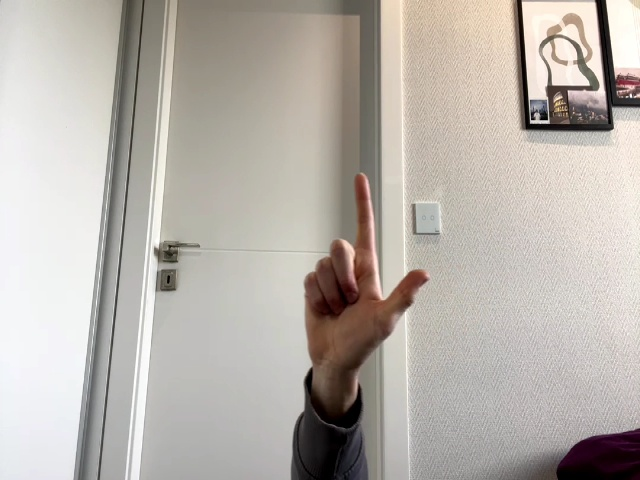L: (303, 173, 430, 372)
